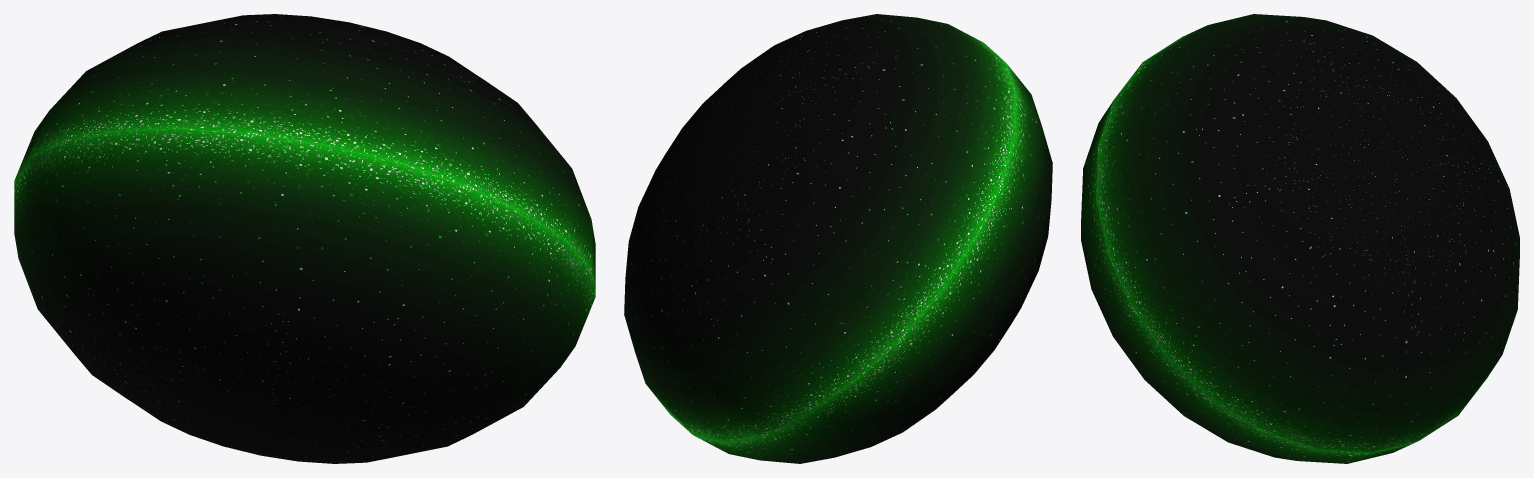
Rendered from SKY_SYSTEM (1) #653455.fbx.
The picture shows the model from 3 angles, left to right: view 1: azimuth 30°, elevation 25°; view 2: azimuth 150°, elevation 25°; view 3: azimuth 270°, elevation 25°; orthographic projection. The views are drawn at different scales.
Visible parts, largest first — view 1: sky_01, sky_02, sky_01 (1); view 2: sky_02, sky_01, sky_01 (1); view 3: sky_02, sky_01, sky_01 (1).
Part boxes in pixels (left/top/right/bottom): sky_01: left=14, top=129, right=591, bottom=463; sky_02: left=15, top=14, right=595, bottom=296; sky_01 (1): left=18, top=166, right=595, bottom=458; sky_02: left=624, top=14, right=1016, bottom=441; sky_01: left=694, top=63, right=1052, bottom=463; sky_01 (1): left=801, top=183, right=1050, bottom=421; sky_02: left=1096, top=14, right=1519, bottom=452; sky_01: left=1081, top=100, right=1417, bottom=463; sky_01 (1): left=1081, top=211, right=1220, bottom=408.
Size of the model in its own units: 1949 by 1822 by 1949.
